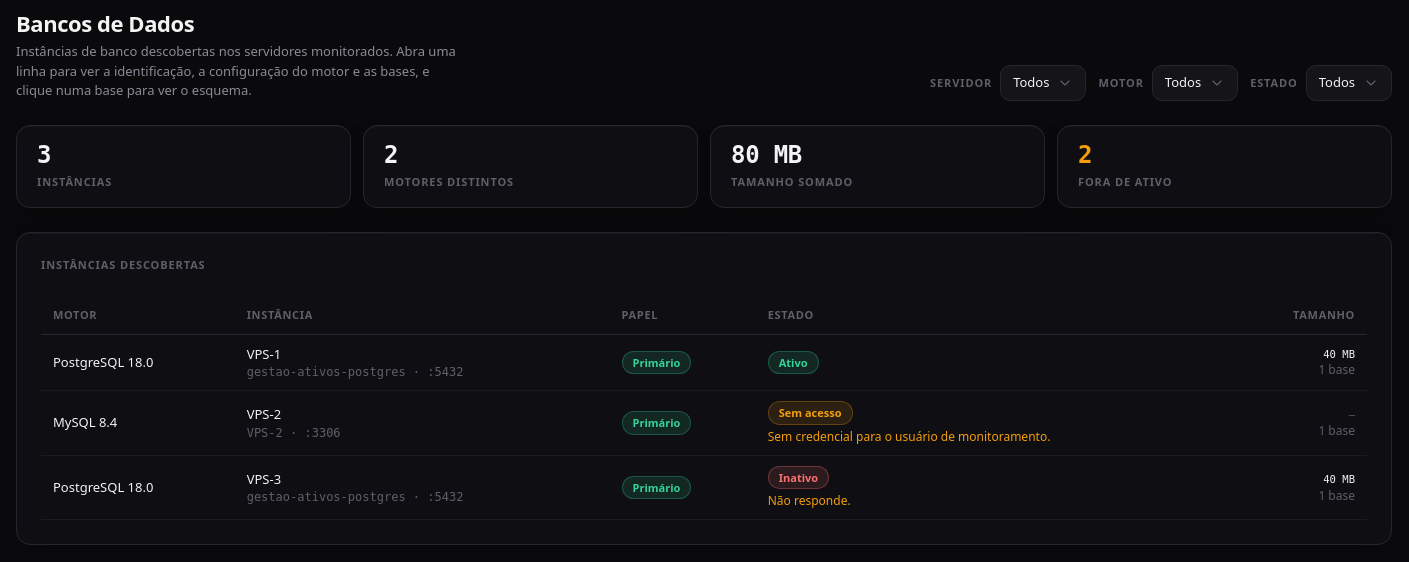
BancosView — filtros › o filtro de motor reduz a lista
Click the dropdown named "Motor": point(1195, 83) [1152, 65, 1238, 101]
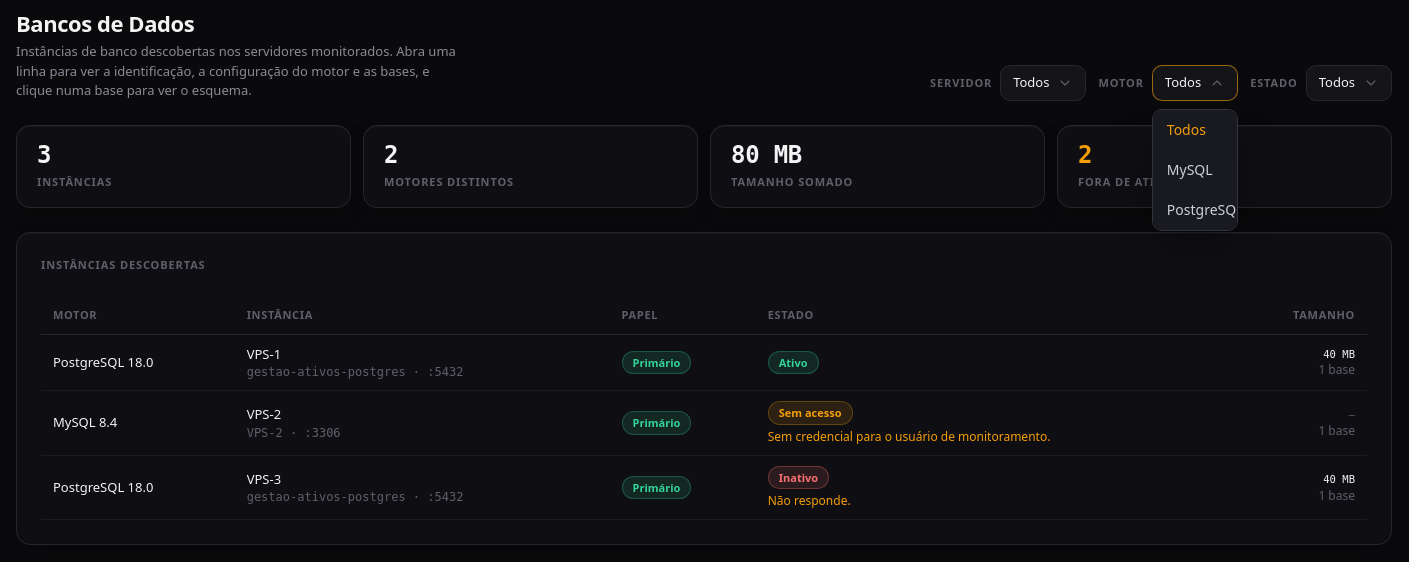
Click the option "MySQL": point(1190, 169) [1167, 160, 1213, 179]
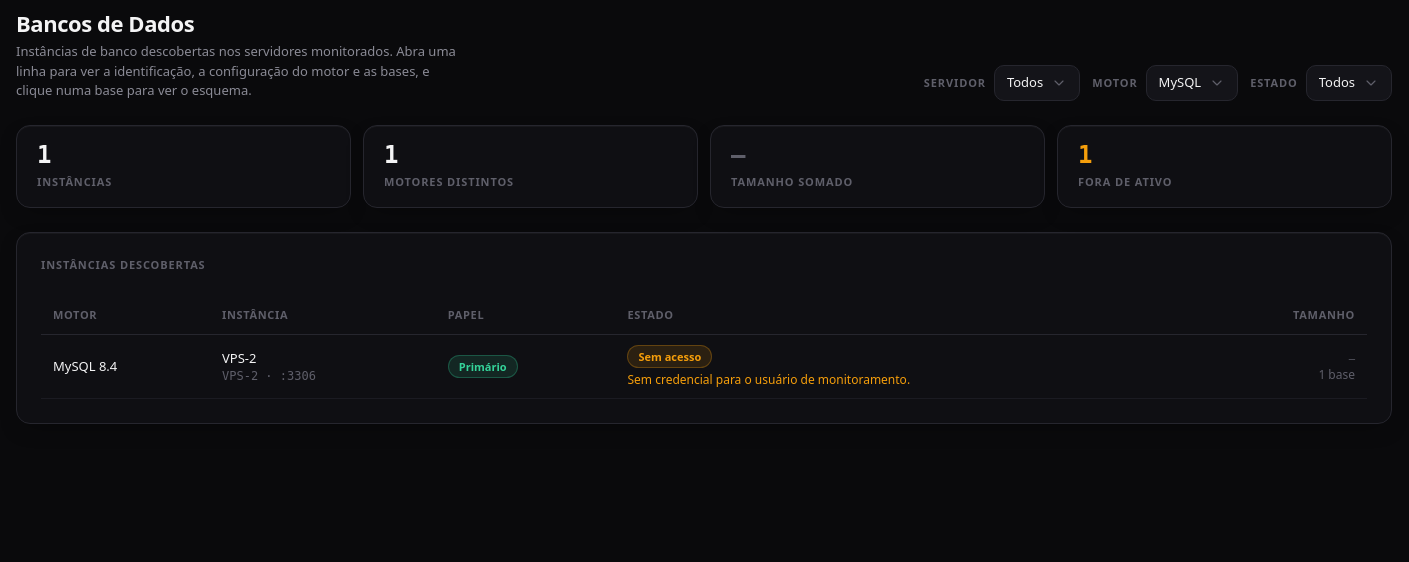
Expected: the cell with test id "instancia-motor" reads "MySQL 8.4", [53, 357, 117, 375]
Expected: the number of buttons with test id "instancia" is 1, [41, 334, 1367, 399]
Expected: the text with test id "resumo-instancias" reads "1", [37, 141, 51, 169]
